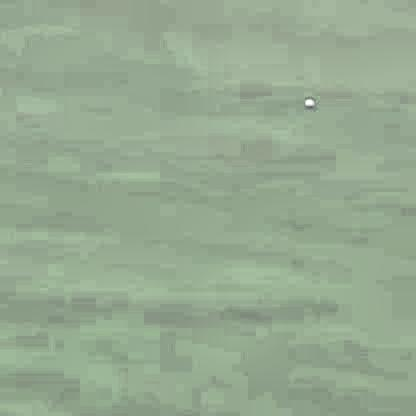golfball: (300, 95, 313, 105)
